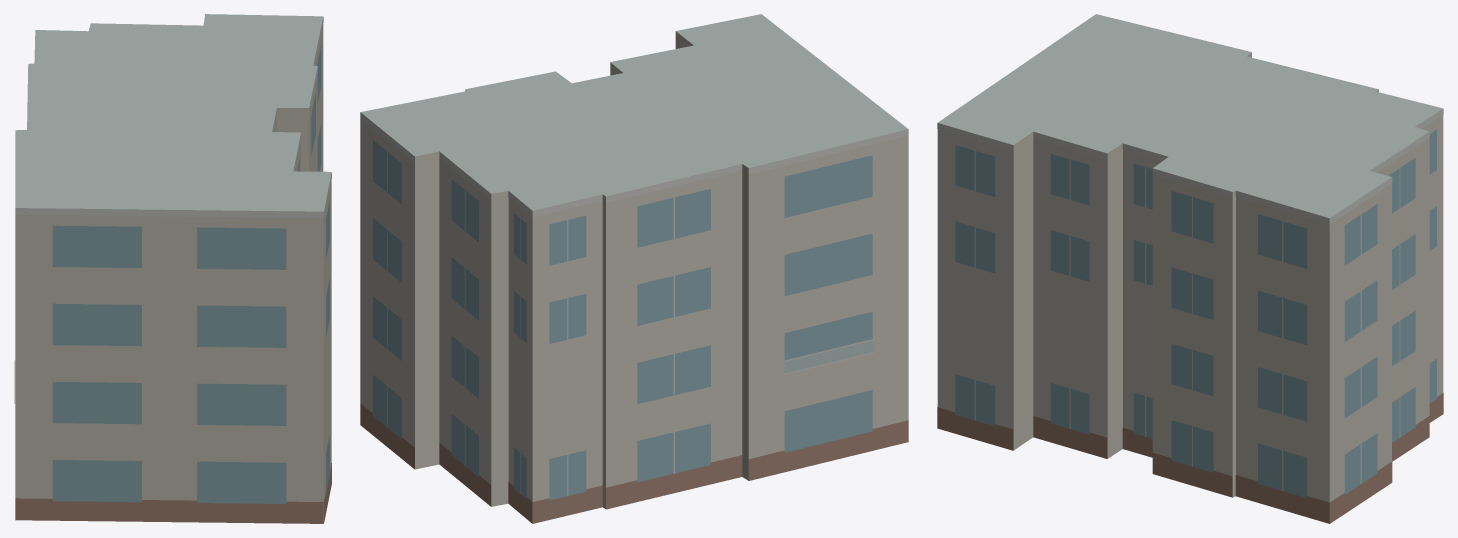
File: survey-upis-32689099.glb
3 renders of one model, left to right at view 1: azimuth 30°, elevation 25°; view 2: azimuth 150°, elevation 25°; view 3: azimuth 270°, elevation 25°, orthographic. The views are drawn at different scales.
Parts seen in each view (by area): view 1: survey-upis-32689099.tmp; view 2: survey-upis-32689099.tmp; view 3: survey-upis-32689099.tmp.
Part boxes in pixels (bbox=[...]): survey-upis-32689099.tmp: bbox=[14, 14, 331, 523]; survey-upis-32689099.tmp: bbox=[360, 14, 908, 523]; survey-upis-32689099.tmp: bbox=[937, 14, 1443, 523].
Bounding box in the file's own units: 16.92 × 11.8 × 17.71.
